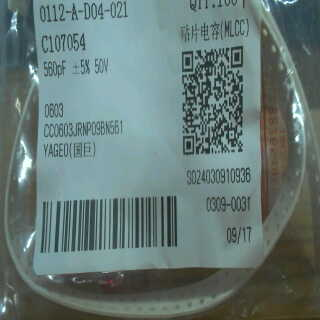560pF: (39, 57, 68, 79)
